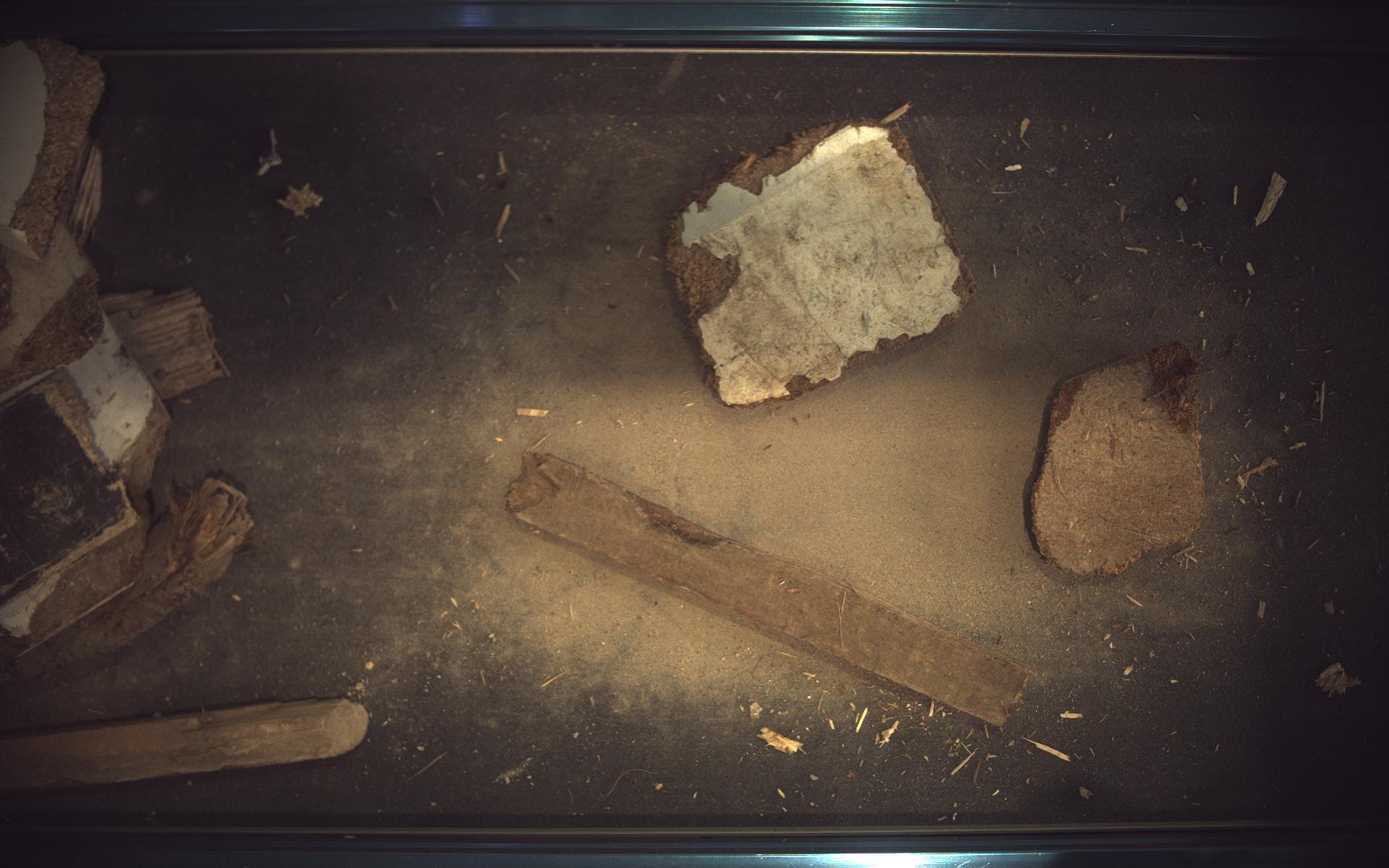wood: (506, 451, 1030, 726), (668, 120, 976, 405), (12, 478, 252, 677), (1033, 342, 1207, 576), (2, 700, 368, 792), (1, 389, 134, 605), (27, 319, 169, 507), (1, 38, 103, 259), (1, 521, 150, 651), (1, 223, 103, 393), (98, 288, 229, 399)
